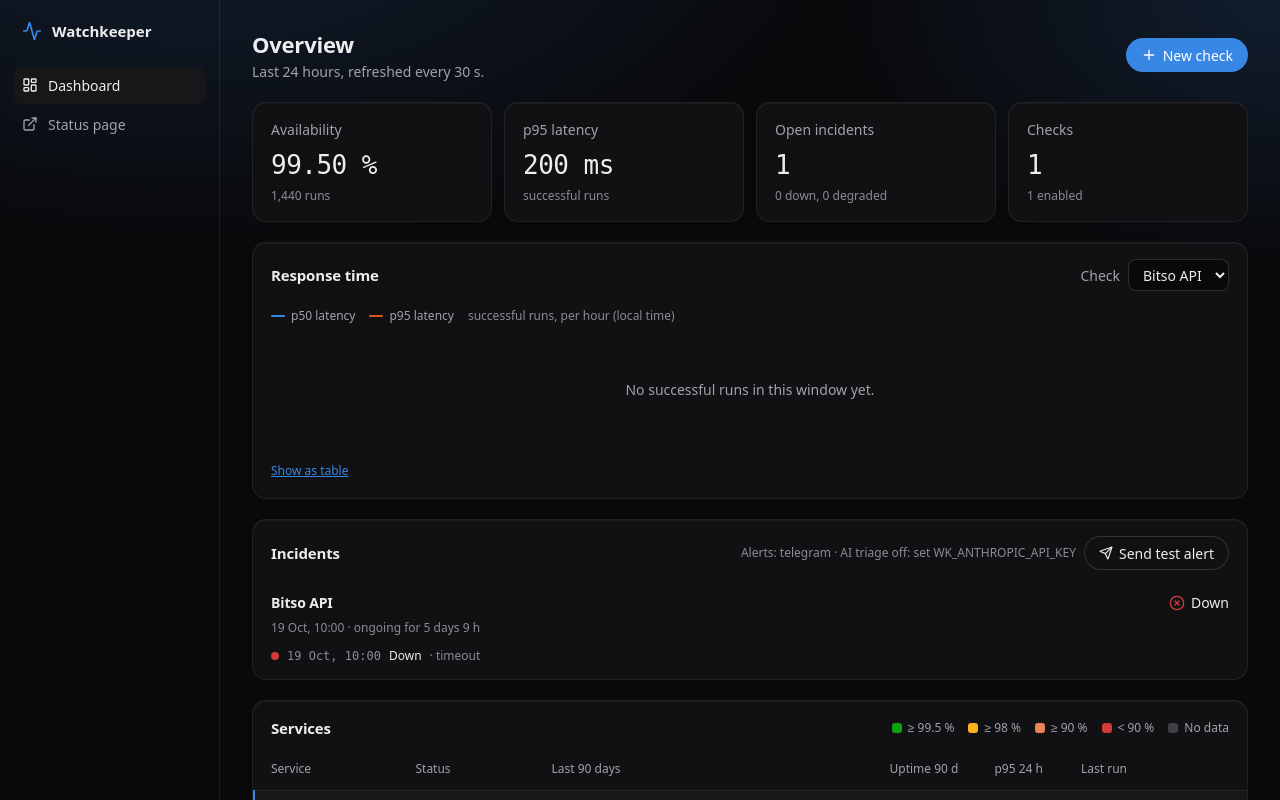
Scenario: App › lists incidents with their errors and sends a test alert
This screenshot has width=1280, height=800.
Expected: the text "· timeout" is shown, 430,647 -> 480,665
Expected: the text "19 Oct, 10:00 · ongoing for 5 days 9 h" is shown, 271,619 -> 480,636
Click the button "Send test alert".
click(1156, 553)  # box 1084,536 -> 1229,570
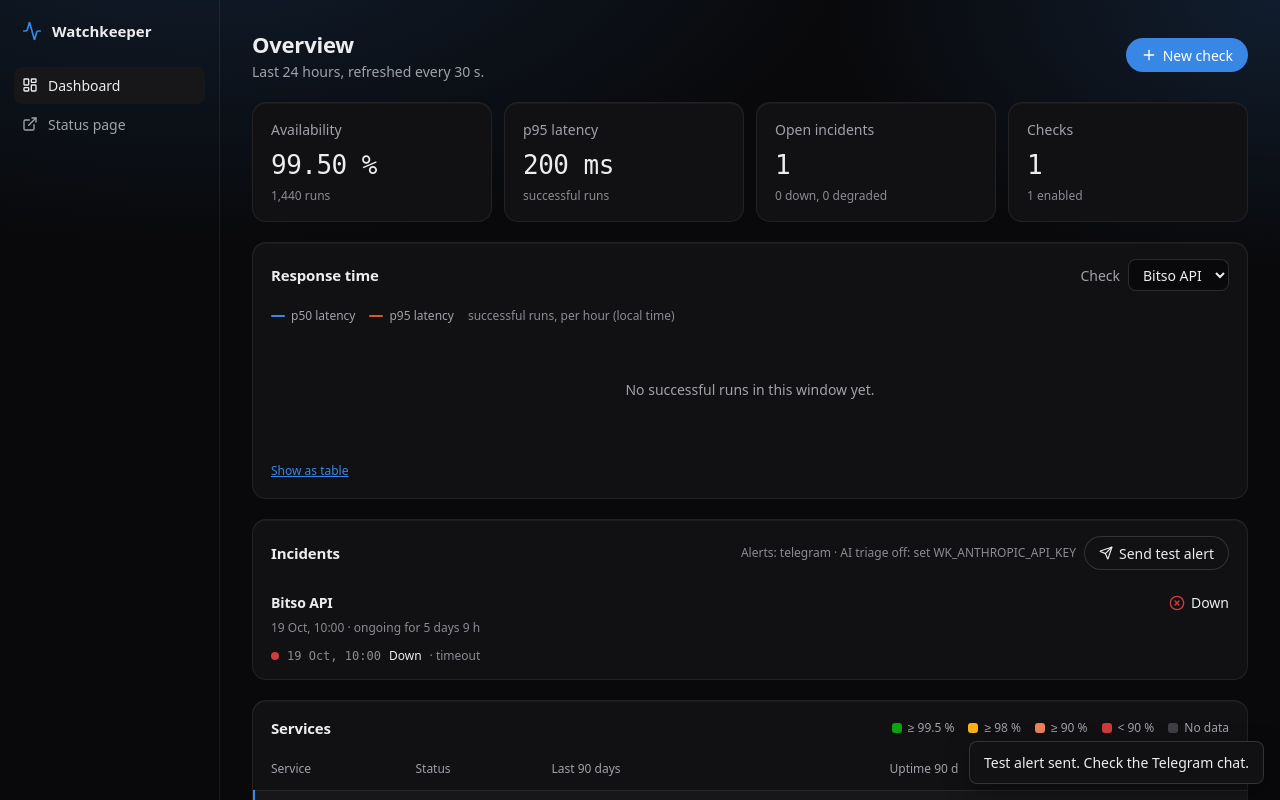
Now the text "Test alert sent. Check the Telegram chat." is shown, box 969,741 -> 1264,784
